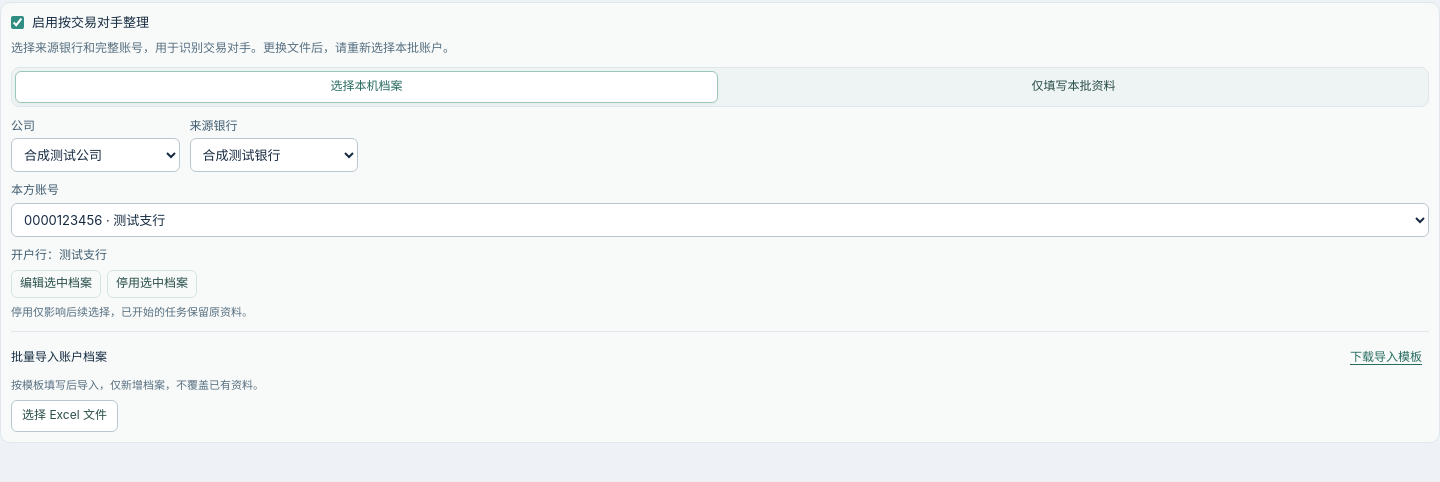
Test: CompanyAccountSelector › shows a Chinese failure and permits retry without changing account selection
What coordinates should you click on to do the following:
click the button "下载导入模板"
I would click on:
 (1386, 357)
Its box is [1343,343,1429,371].
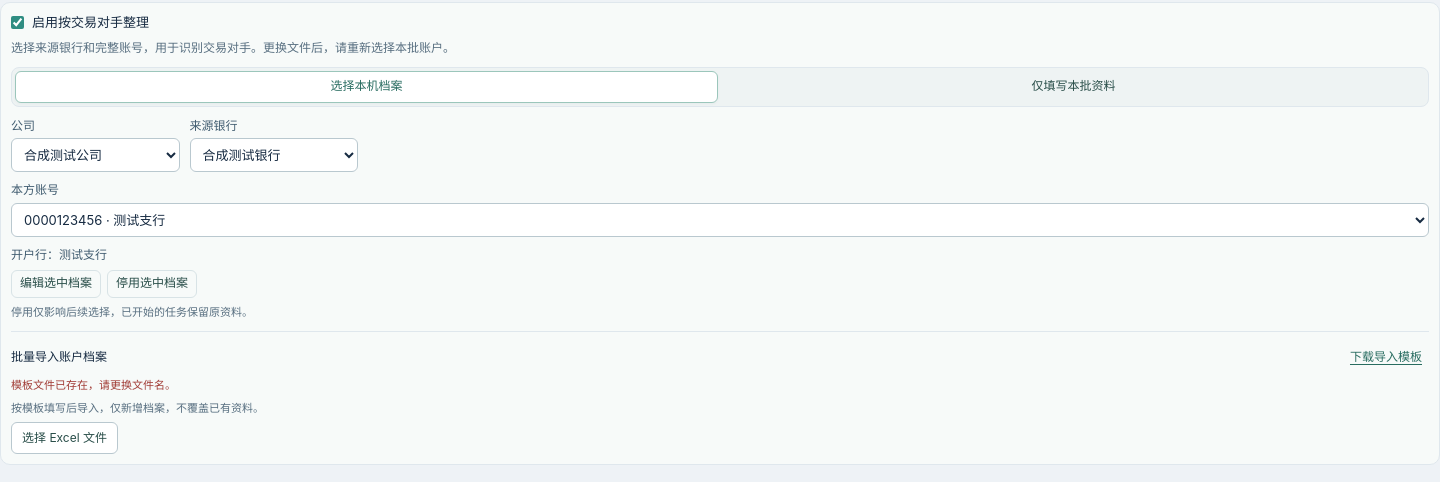
Expected: the message reads "模板文件已存在，请更换文件名。", [11,378,176,392]
What coordinates should you click on to do the following:
click the button "下载导入模板"
I would click on:
 (1386, 357)
Its box is [1343,343,1429,371].
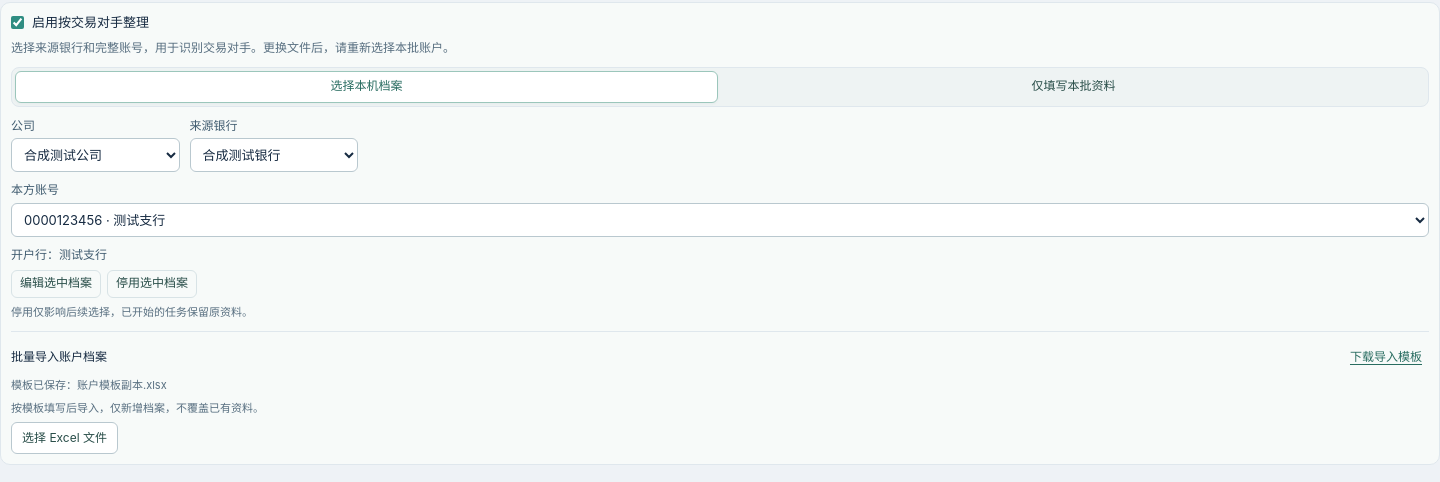
Expected: the text "模板已保存：账户模板副本.xlsx" is shown, [11,378,167,392]
